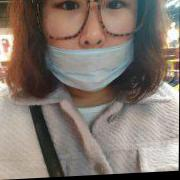WRONG: (41, 1, 137, 94)
